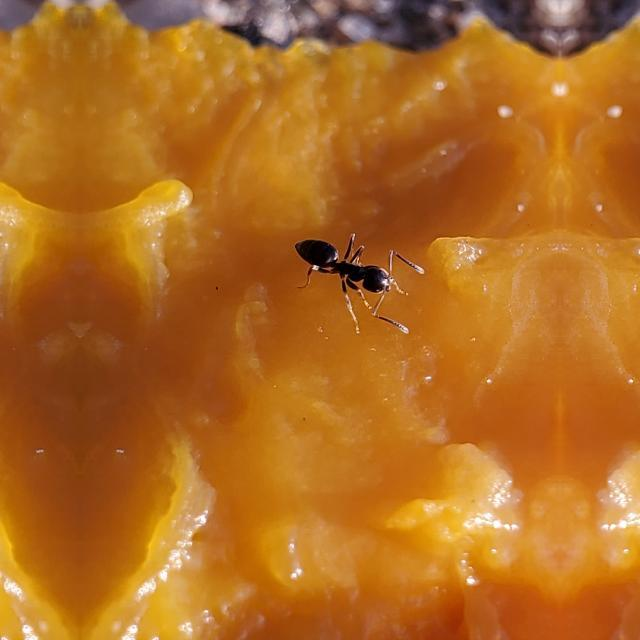Tapinoma: (288, 214, 418, 328)
